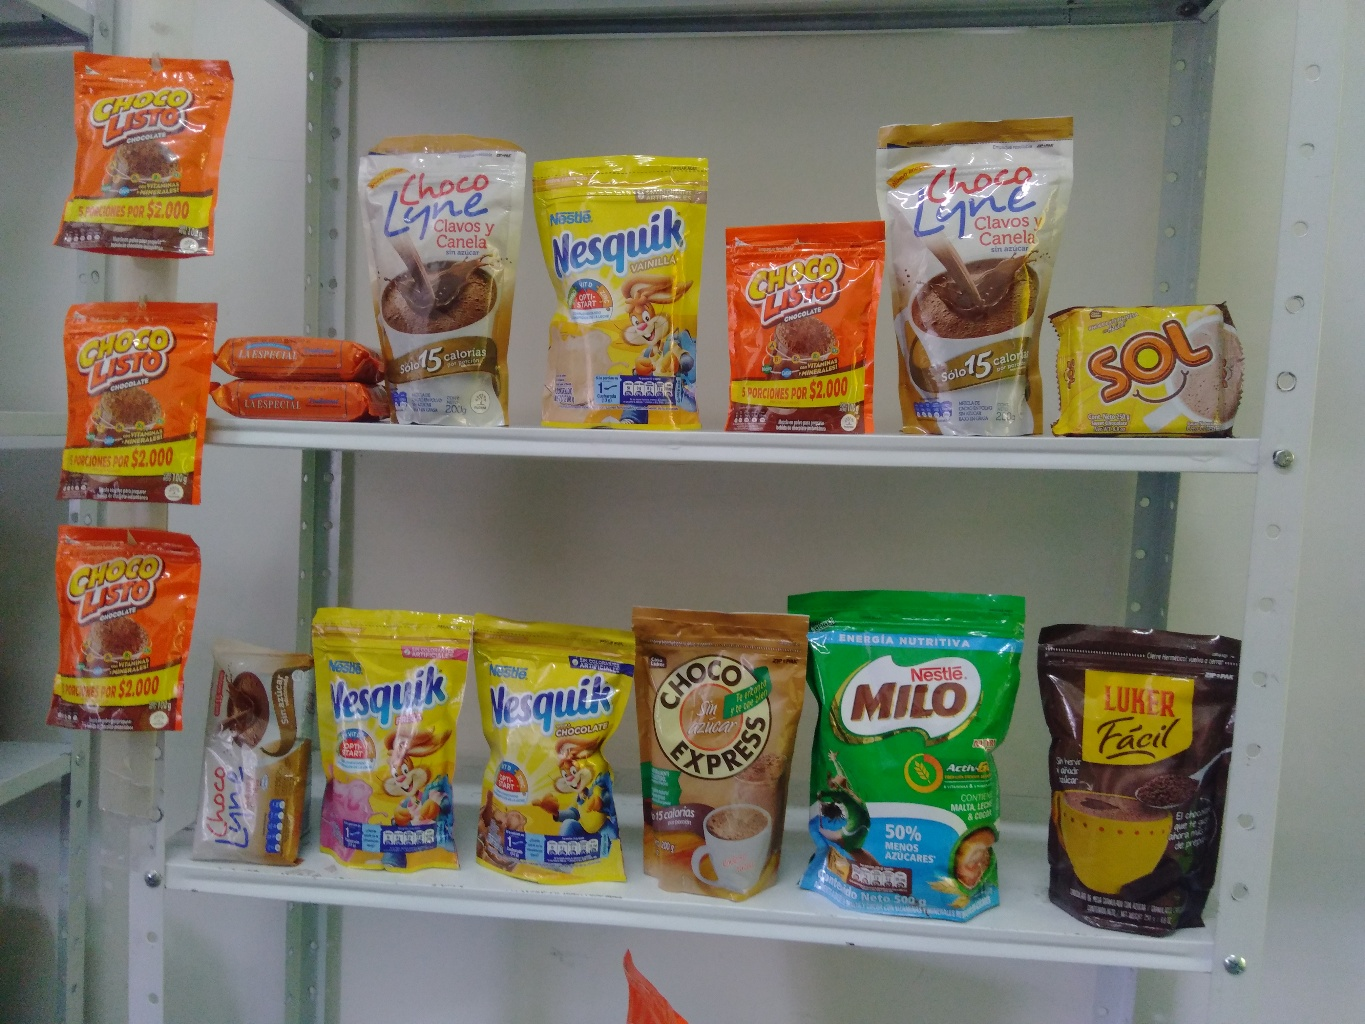COL0170205DYP50000: (784, 584, 1030, 930)
COL0170303DYP20000: (464, 623, 648, 884)
COL0170305DYP20000: (317, 602, 483, 878)
COL0170306DYP20000: (534, 148, 722, 431)
